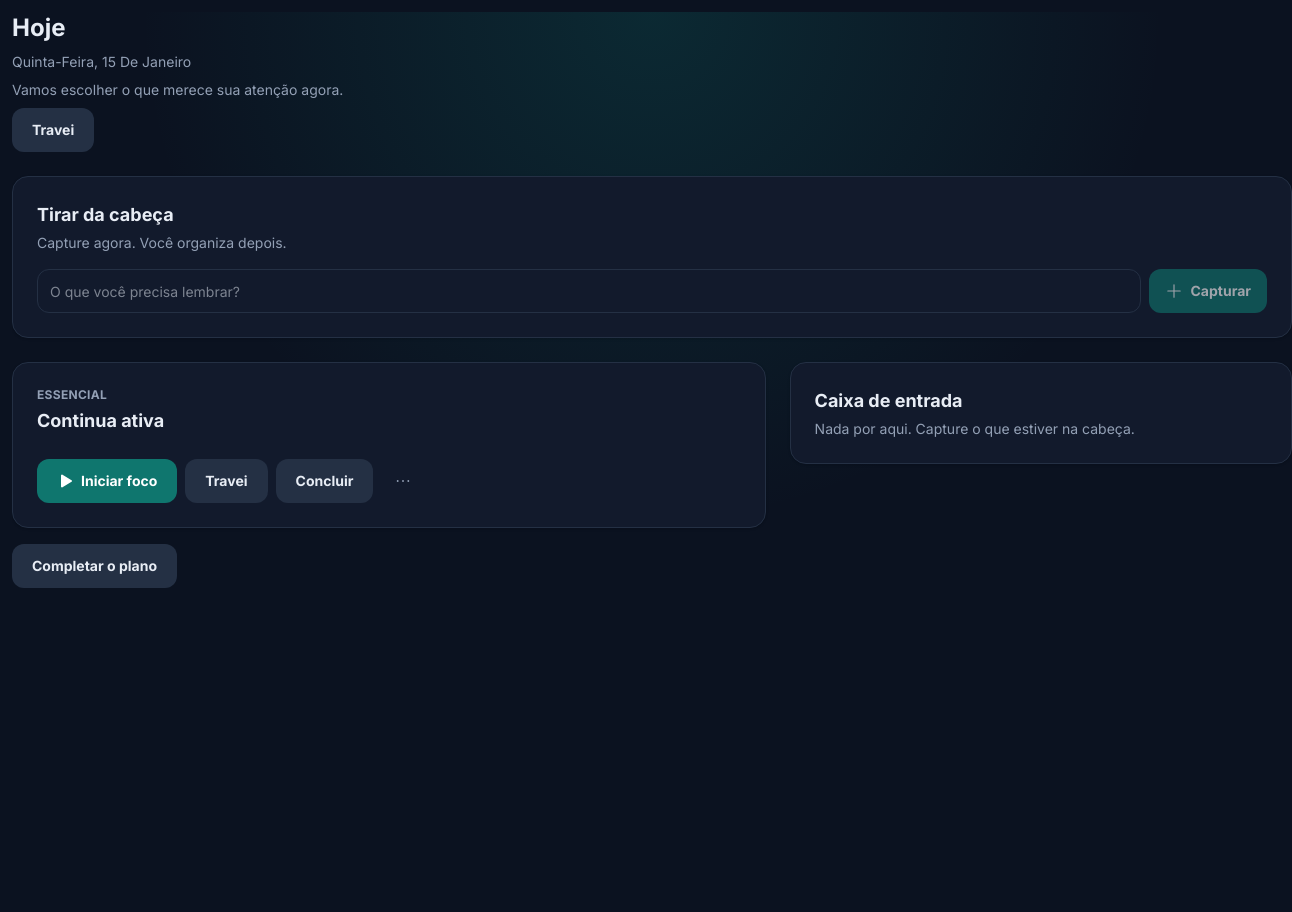
it: Today screen › planning › removes a task from the plan without deleting it
This screenshot has width=1292, height=912.
expect the heading "Hoje" is shown: met, box 12,13 -> 66,42
Click the button named "Mais ações para Continua ativa" at (404,481), box 382,459 -> 426,503
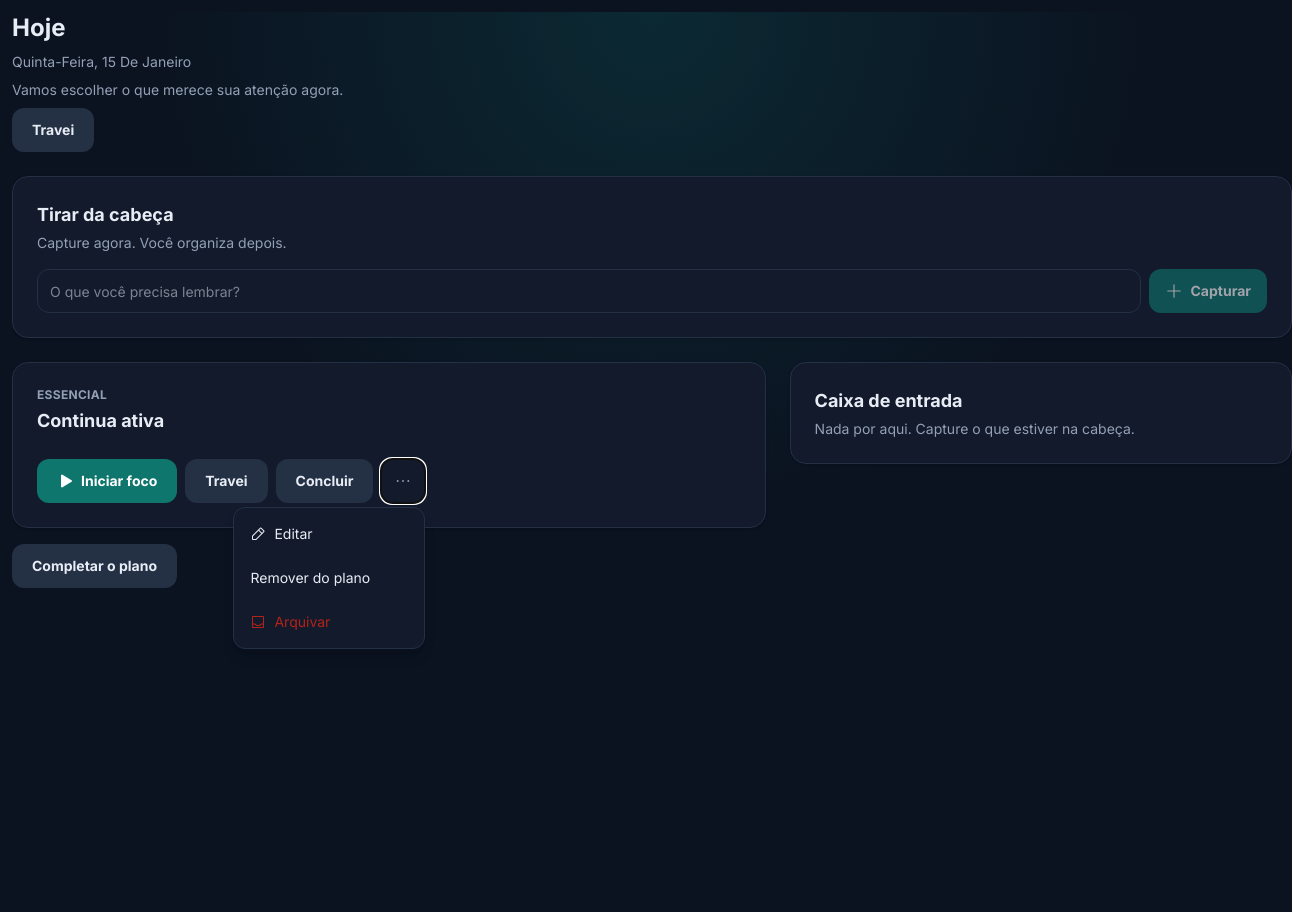
Click the menu item "Remover do plano" at (330,578), box 238,556 -> 420,600
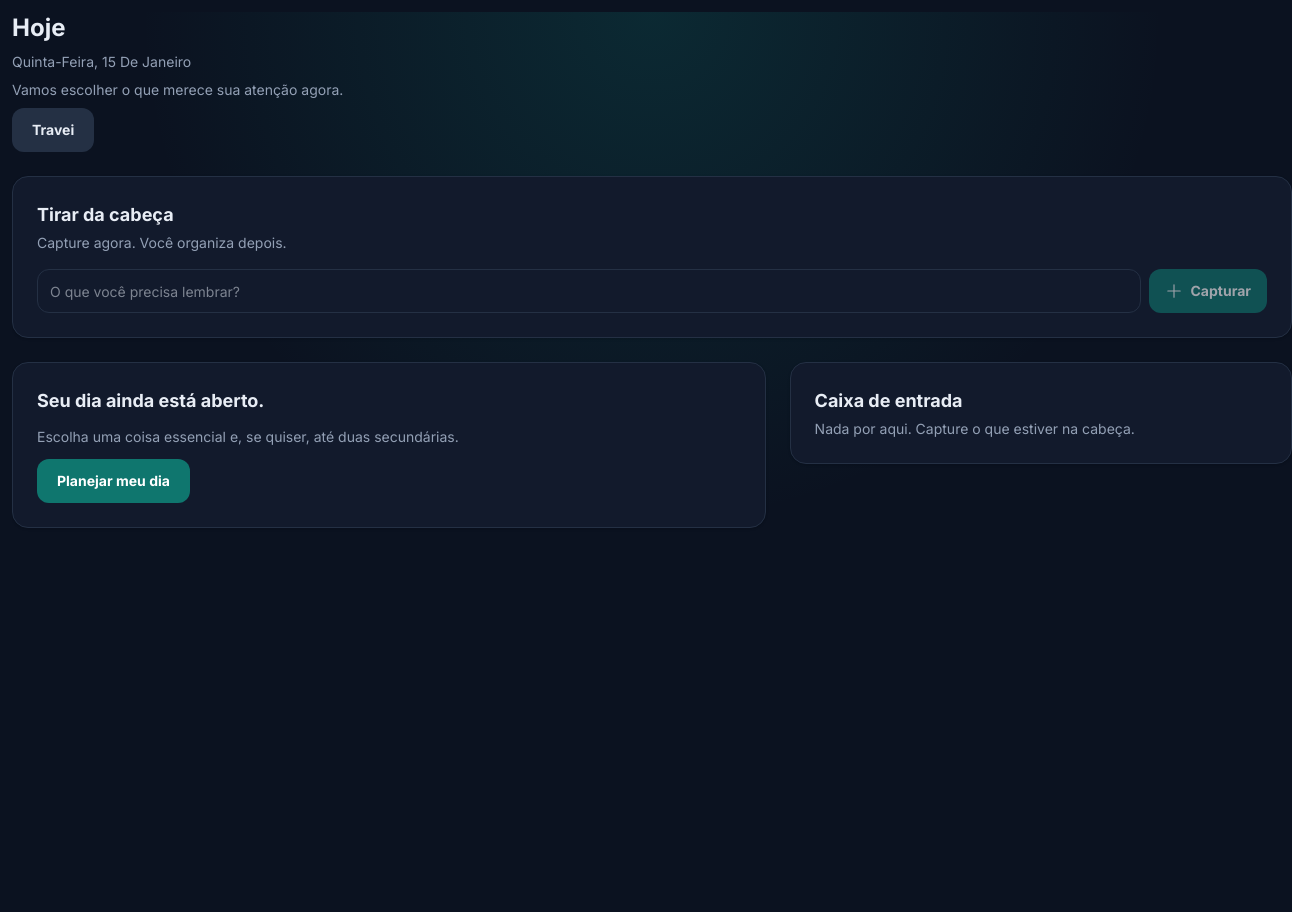
expect the heading "Seu dia ainda está aberto." is shown: met, box 37,390 -> 264,411
